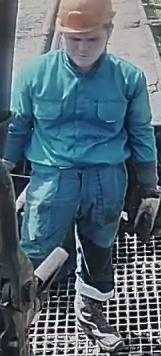gloves: (130, 184, 161, 242)
helmet: (55, 0, 116, 43)
vest: (4, 49, 161, 175)
